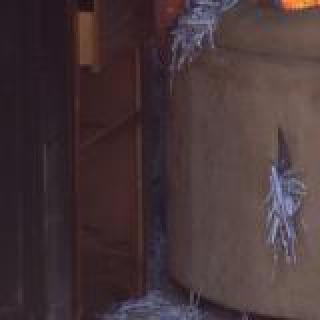fire: (234, 0, 320, 70)
